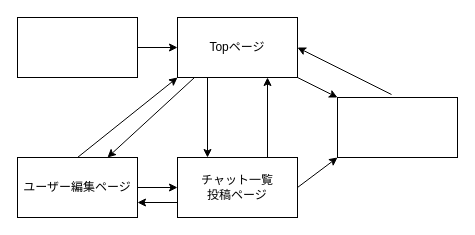
Some shapes in this 475 by 235 pixel diagram are drawn without their labels. The shapes that lost their labels are listed below. From the top down, each one's centre as x and y in pixels, then its label:
At pixel 77 47: "サインイン ログインページ".
At pixel 397 127: "チャットルーム 作成ページ".
